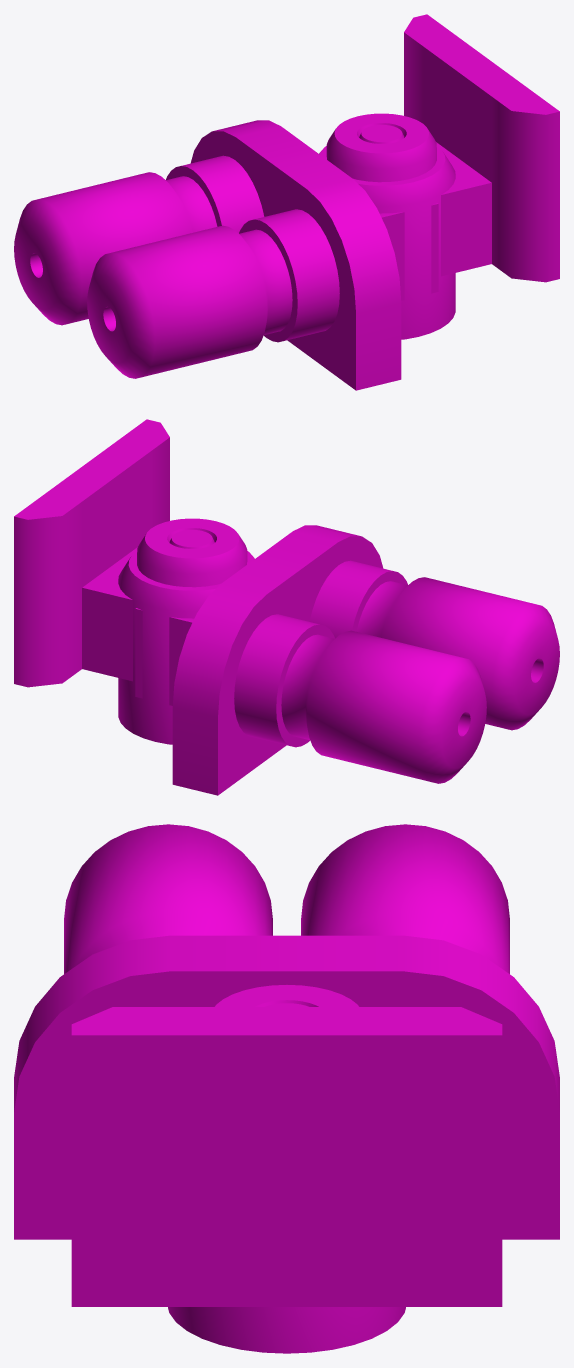
File: Comp_Cannon.fbx
The picture shows the model from 3 angles, top to bottom: view 1: azimuth 30°, elevation 25°; view 2: azimuth 150°, elevation 25°; view 3: azimuth 270°, elevation 25°; orthographic projection. The views are drawn at different scales.
Parts seen in each view (by area): view 1: Cannon_Lo, Base_Lo; view 2: Cannon_Lo, Base_Lo; view 3: Base_Lo, Cannon_Lo.
Part boxes in pixels (x1,y1,x2,y2): Cannon_Lo: (14, 120, 438, 390); Base_Lo: (319, 14, 559, 339); Cannon_Lo: (135, 525, 559, 795); Base_Lo: (14, 419, 254, 744); Base_Lo: (71, 985, 502, 1353); Cannon_Lo: (14, 824, 559, 1239).
Bounding box in the file's own units: 440 × 219 × 305.
